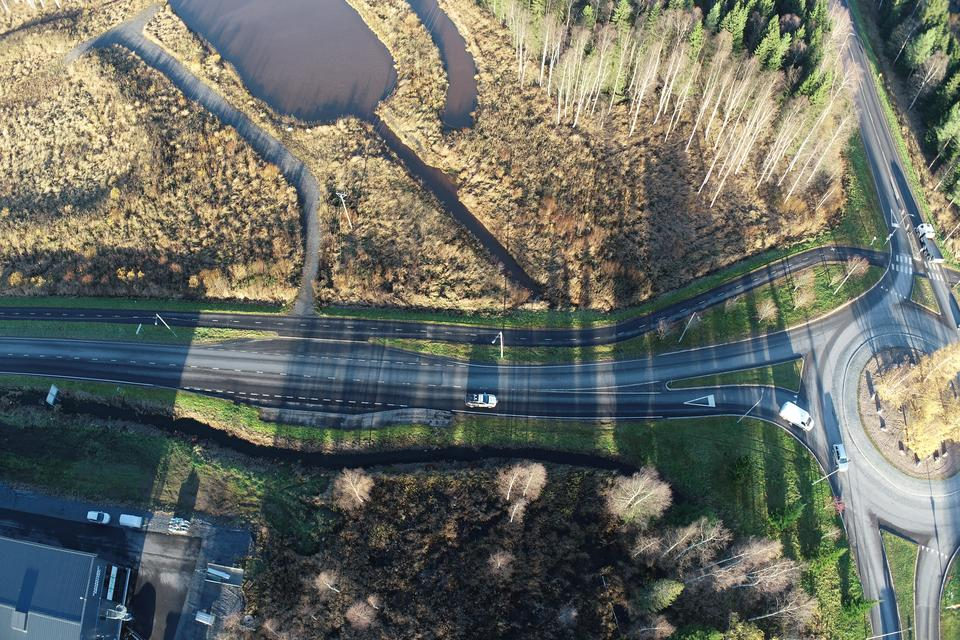intersection: (261, 275, 347, 437), (869, 239, 960, 284)
roundabout: (763, 287, 960, 542)
